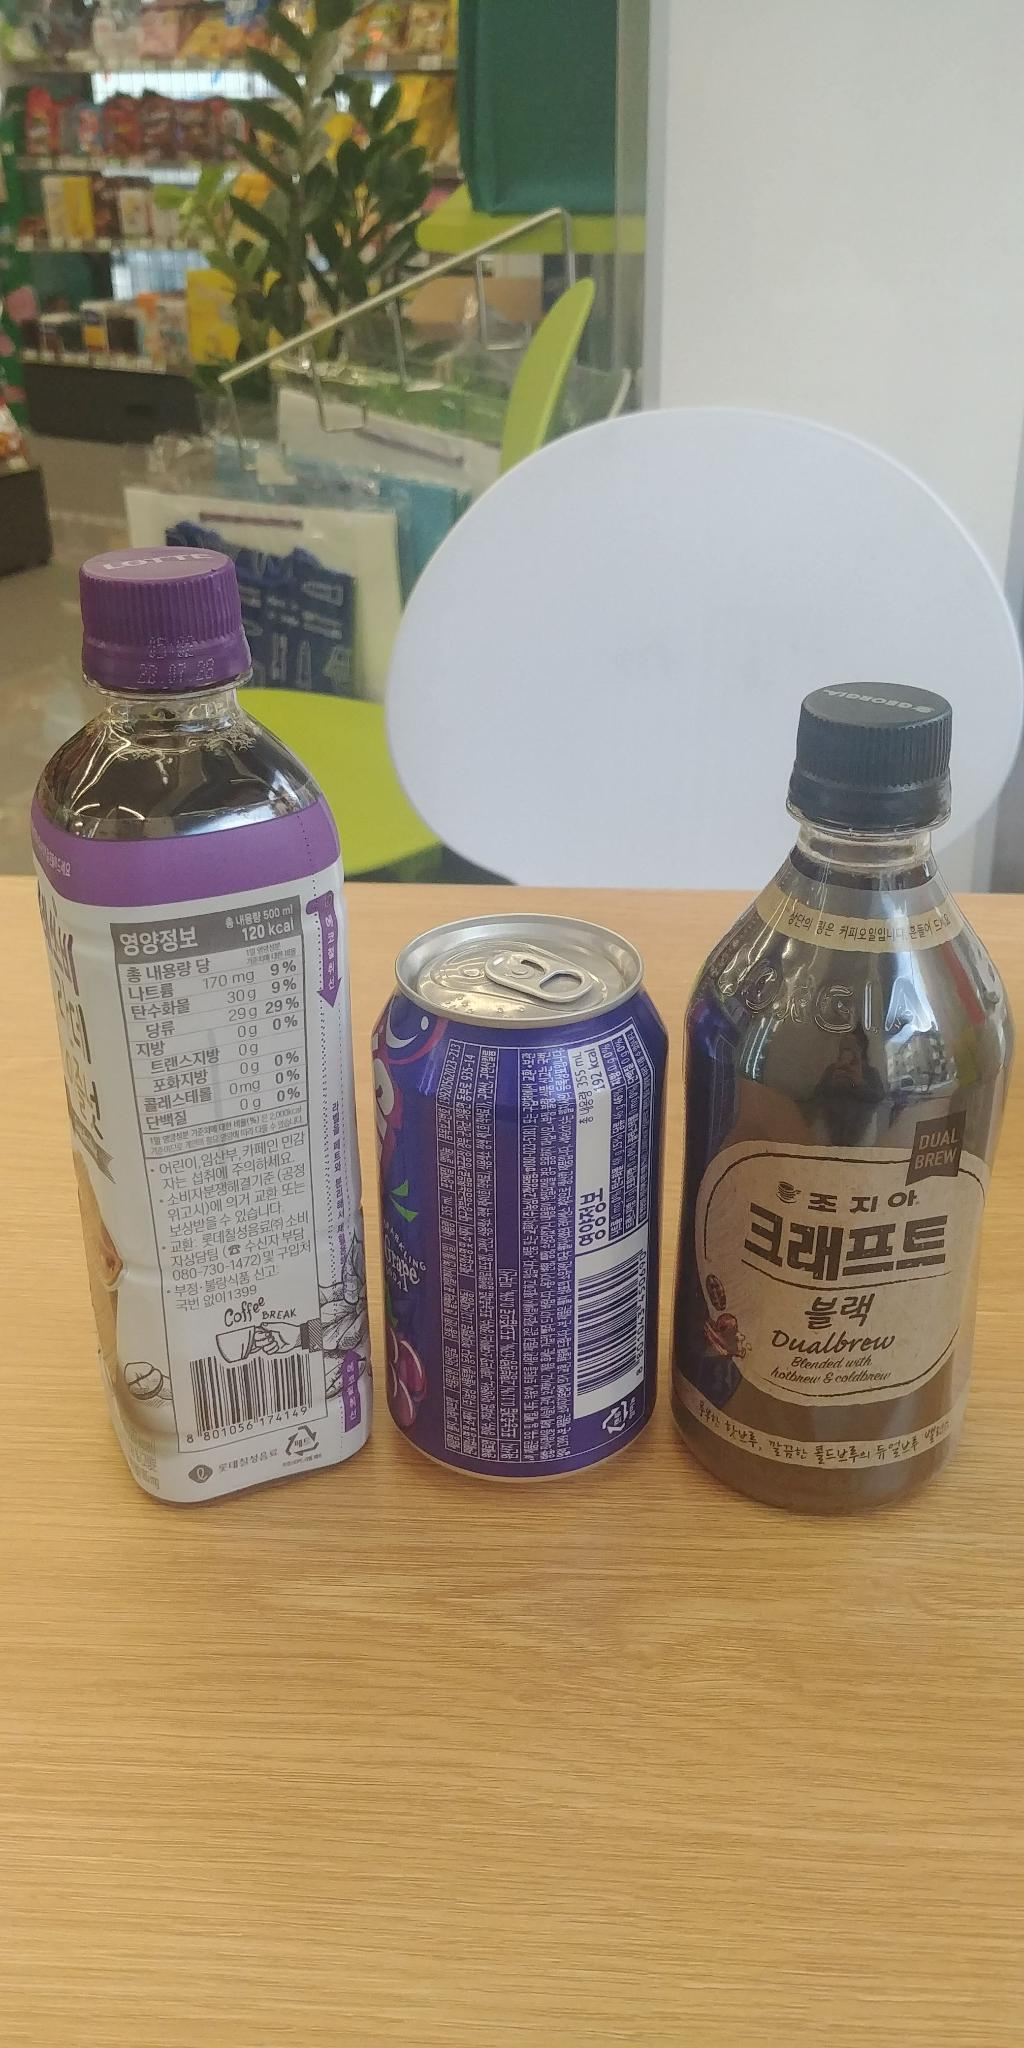georgiacraft_black: (670, 652, 1003, 1498)
letsbe_grande_hazelnut: (22, 543, 393, 1510)
welchs_grape: (360, 888, 683, 1488)
